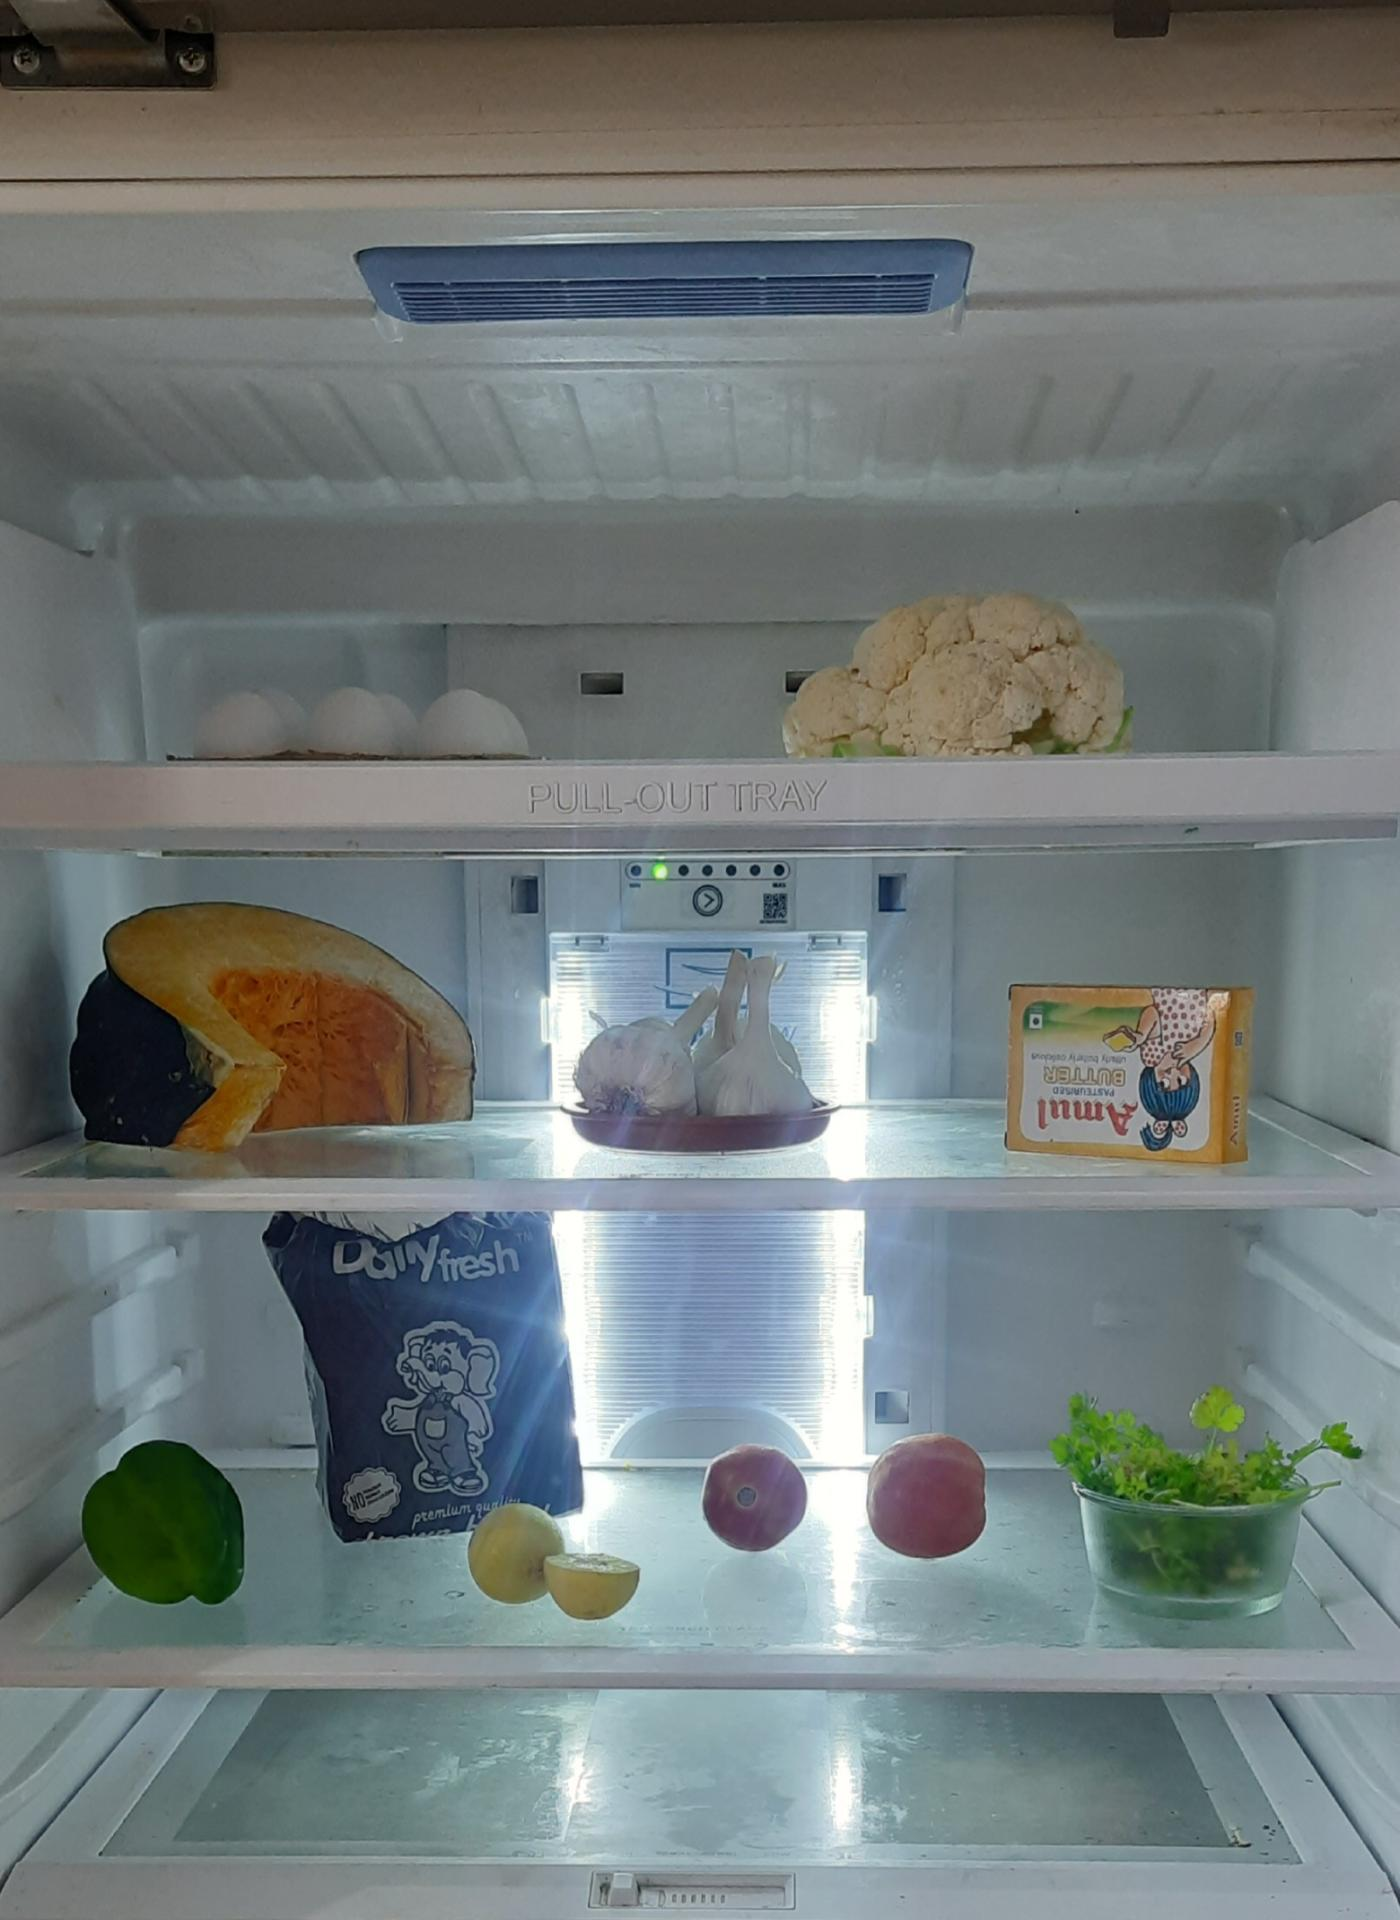bread: (279, 1219, 590, 1547)
butter: (1005, 976, 1254, 1166)
capsicum: (83, 1444, 249, 1613)
cauliflower: (784, 583, 1147, 754)
coriander: (1068, 1392, 1349, 1602)
egg: (189, 683, 526, 766)
garlic: (571, 938, 826, 1128)
lemon: (467, 1507, 653, 1622)
pumpkin: (72, 893, 485, 1154)
tomato: (868, 1422, 993, 1558), (704, 1441, 811, 1556)
